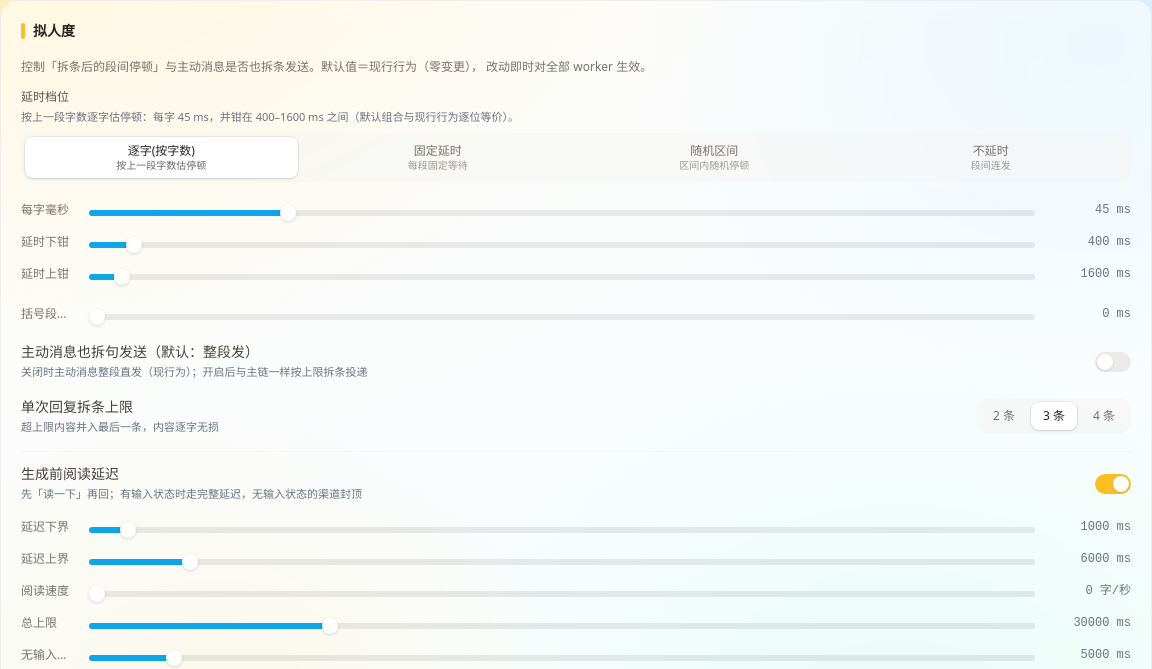
Test: 控件呈现 › dynamic 显示 每字毫秒/延时下钳/延时上钳；切到 fixed 只留每段固定延时
The width and height of the screenshot is (1152, 669).
Check: the button "逐字(按字数) 按上一段字数估停顿" is shown, box [25,137,298,178]
Check: the slider labelled "每字毫秒" is shown, box [89,210,1035,216]
Click the button "固定延时 每段固定等待".
click(438, 158)  # box [302,137,574,178]
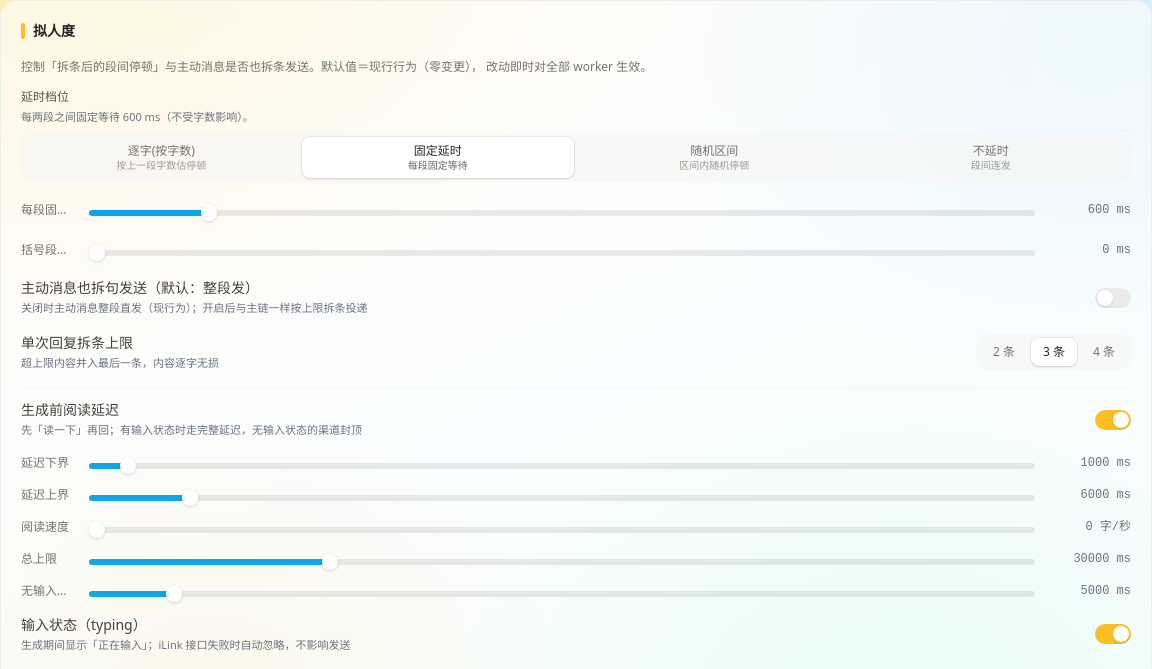
Check: the slider labelled "每段固定延时" is shown, box [89,210,1035,216]
Check: the label labelled "每字毫秒" is gone
